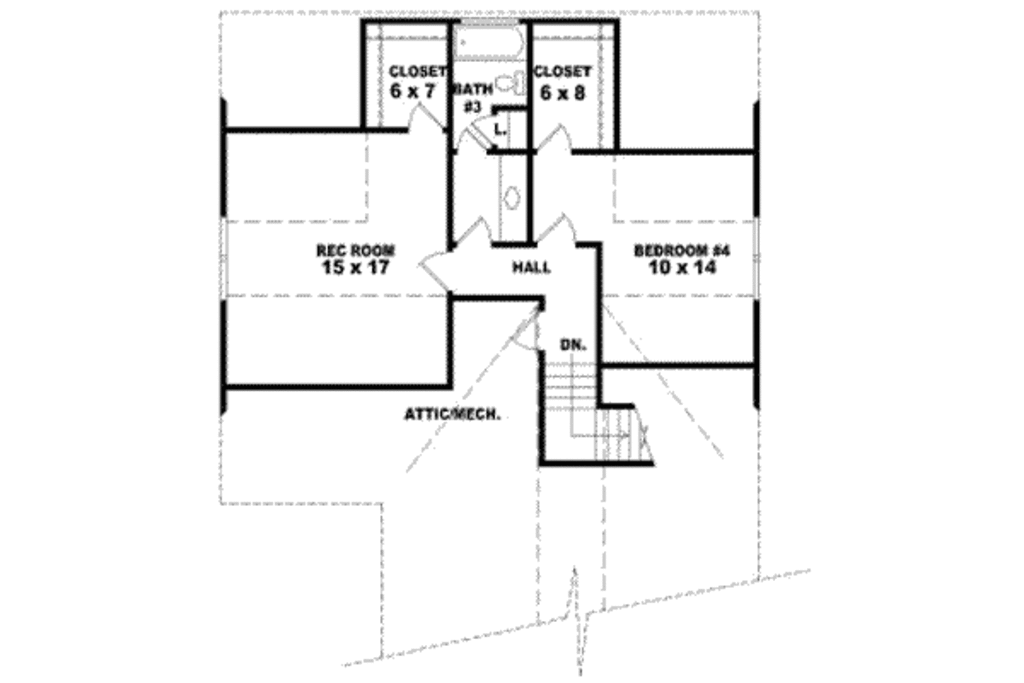door: (402, 244, 455, 295), (528, 210, 581, 246), (536, 116, 575, 157), (404, 98, 445, 133), (458, 127, 496, 159), (458, 216, 495, 247), (482, 107, 500, 144)
large_sink: (480, 63, 524, 97)
stairs: (534, 346, 662, 474)
tub: (450, 23, 524, 63)
window: (219, 218, 229, 294), (753, 218, 761, 296)
